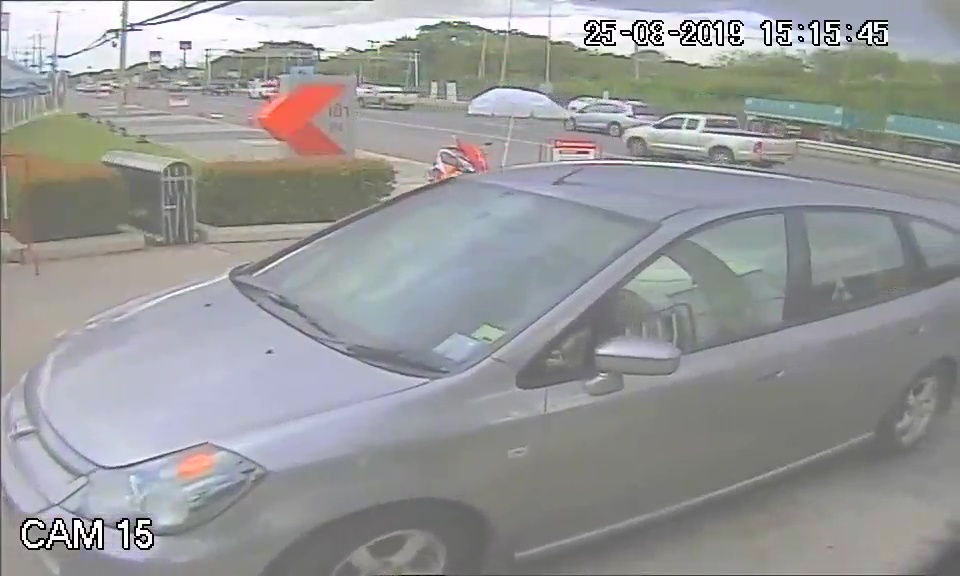sedan: (36, 160, 765, 576)
